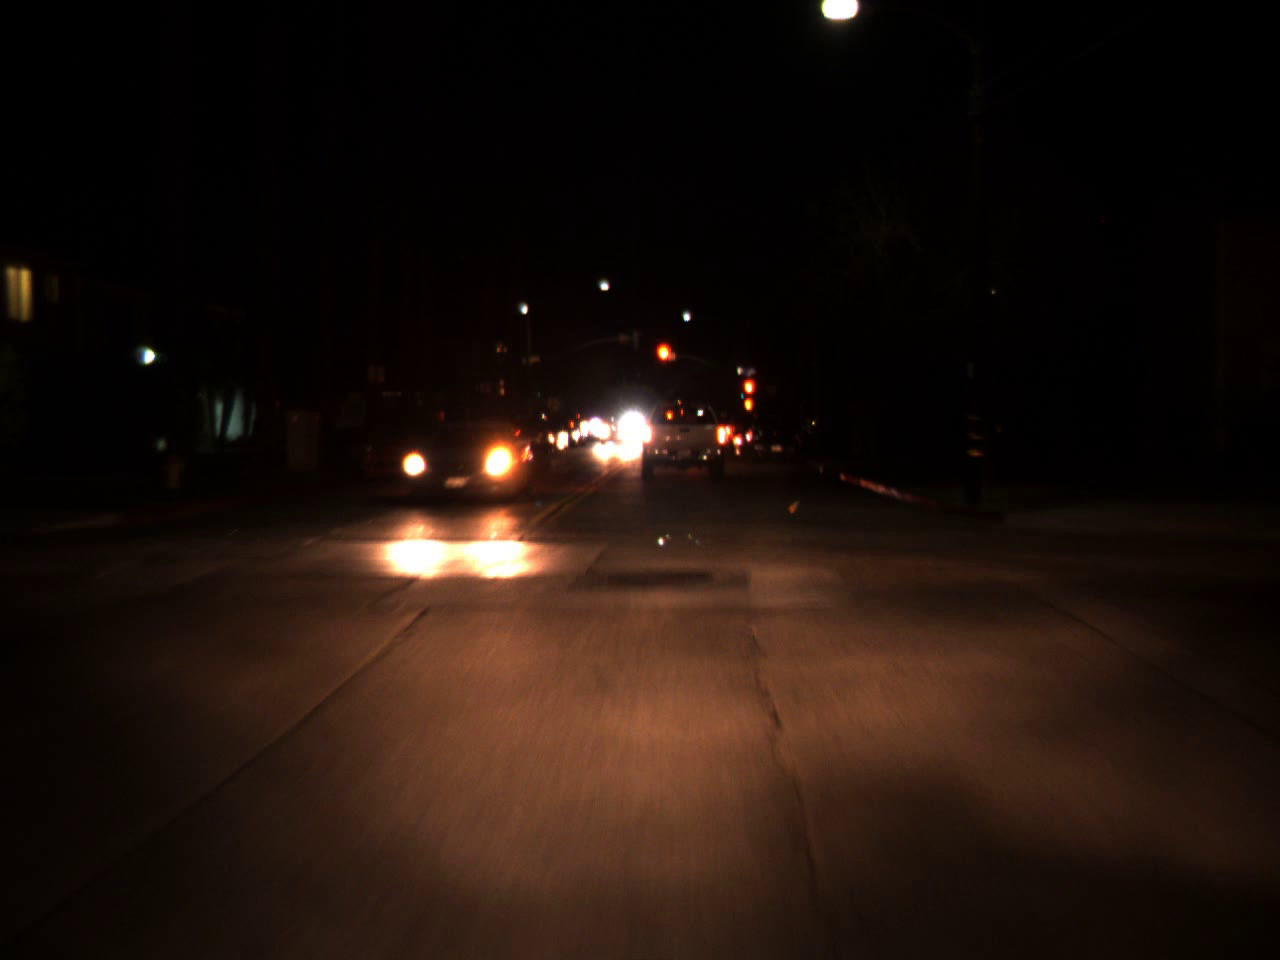stop: (654, 340, 678, 383), (741, 376, 756, 413)
